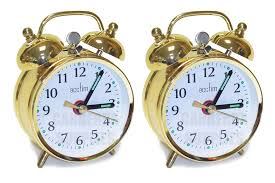alarm_clock: (17, 12, 135, 165)
